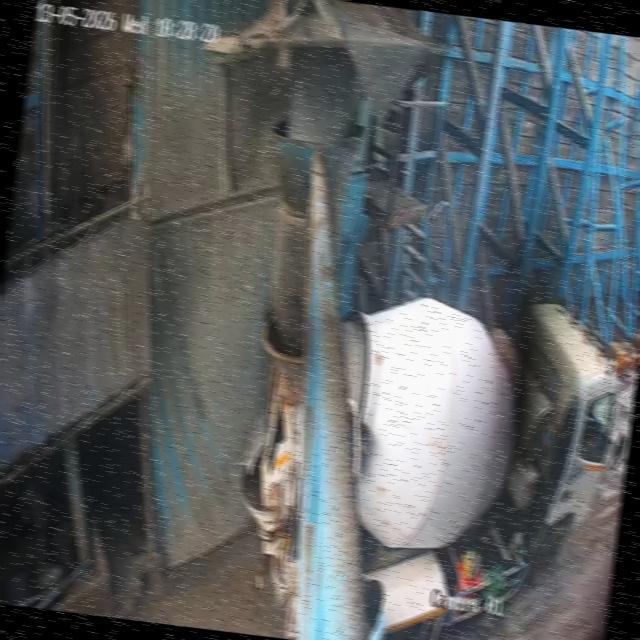cement_mixer_truck: (223, 263, 640, 640)
swing_chute: (263, 124, 360, 353)
